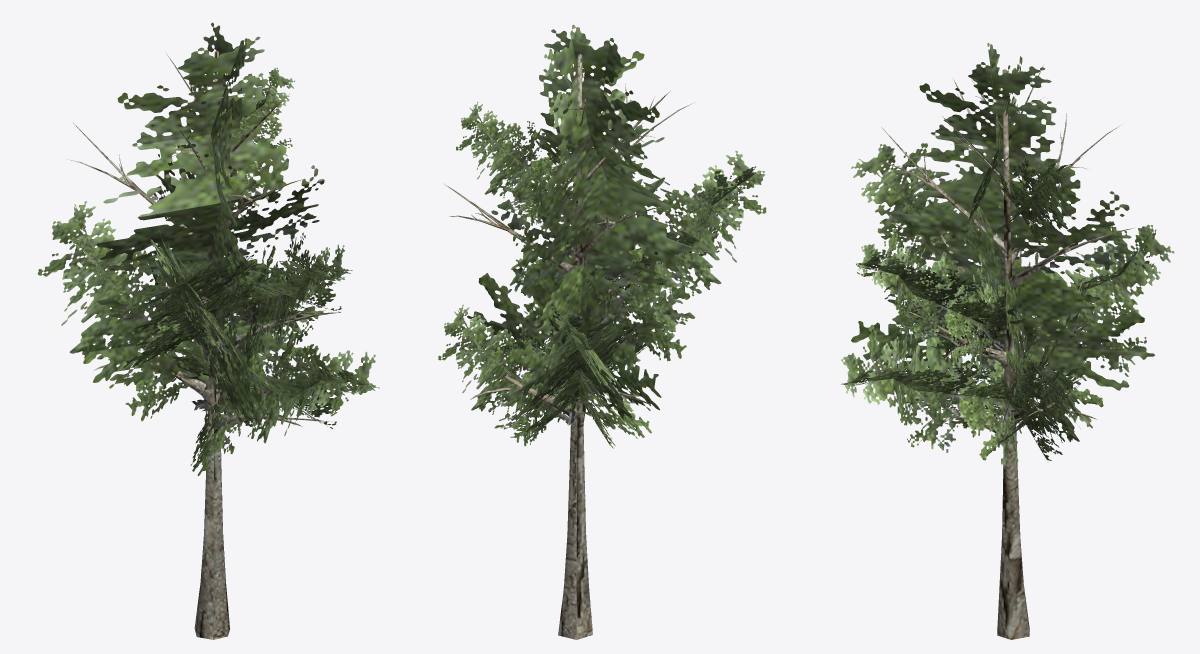
File: SM_Tree_01.fbx
The picture shows the model from 3 angles, left to right: view 1: azimuth 30°, elevation 25°; view 2: azimuth 150°, elevation 25°; view 3: azimuth 270°, elevation 25°; orthographic projection. The views are drawn at different scales.
Parts seen in each view (by area): view 1: SM_Tree_01; view 2: SM_Tree_01; view 3: SM_Tree_01.
Boxes of the visible parts, <box> form: SM_Tree_01: <box>37,22,379,639</box>; SM_Tree_01: <box>438,24,766,639</box>; SM_Tree_01: <box>840,43,1174,639</box>.
Size of the model in its own units: 205 by 234 by 406.
2 materials, 2 textured.
